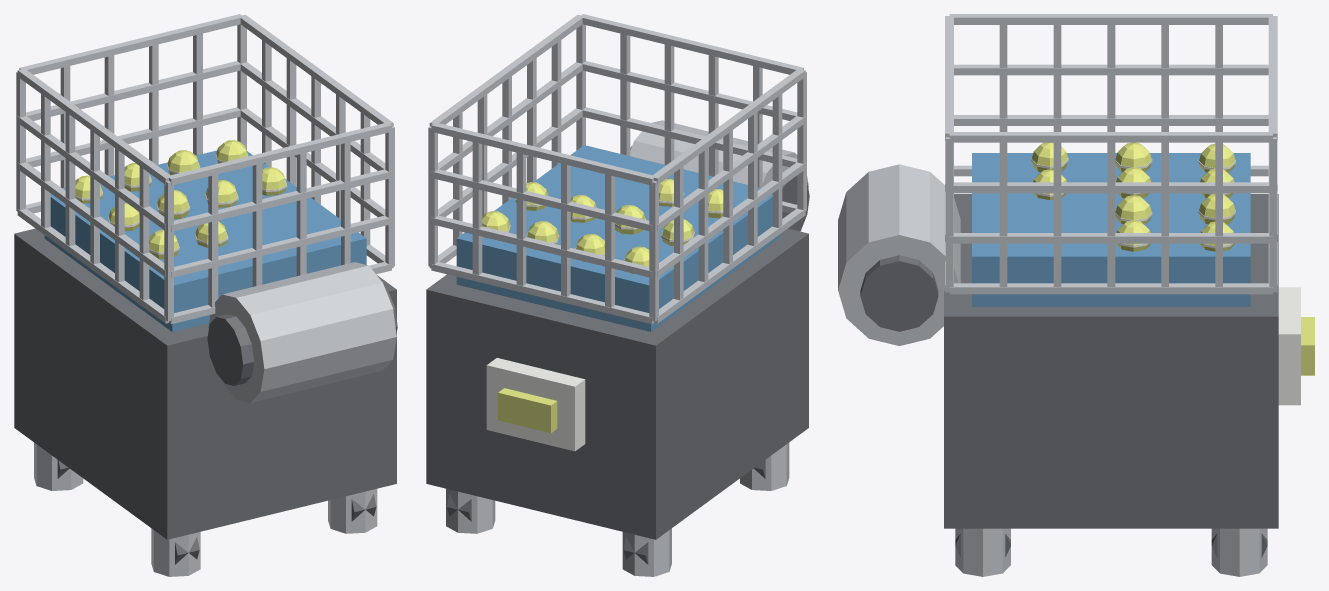
Rendered from tennis-club-and-courts-ball-machine-a177b690__33621.glb.
3 views of the same model, side by side, from view 1: azimuth 30°, elevation 25°; view 2: azimuth 150°, elevation 25°; view 3: azimuth 270°, elevation 25° (orthographic). The views are drawn at different scales.
Parts seen in each view (by area): view 1: ball-machine, barrel/steel, barrel/charcoal; view 2: ball-machine, barrel/steel, barrel/charcoal; view 3: ball-machine, barrel/steel, barrel/charcoal.
Boxes of the visible parts, x1,y1,x2,y2 form: ball-machine: [14, 14, 396, 576]; barrel/steel: [208, 262, 396, 402]; barrel/charcoal: [207, 288, 397, 385]; ball-machine: [426, 14, 808, 576]; barrel/steel: [630, 120, 808, 188]; barrel/charcoal: [630, 146, 809, 231]; ball-machine: [944, 14, 1314, 576]; barrel/steel: [838, 164, 960, 345]; barrel/charcoal: [860, 255, 938, 331].
Bounding box in the file's own units: 0.52 × 0.877 × 0.855.
